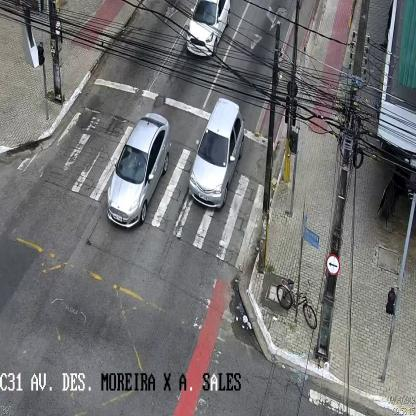bicycle: (276, 277, 317, 329)
car: (108, 112, 168, 230), (188, 98, 245, 212), (187, 0, 231, 58)
